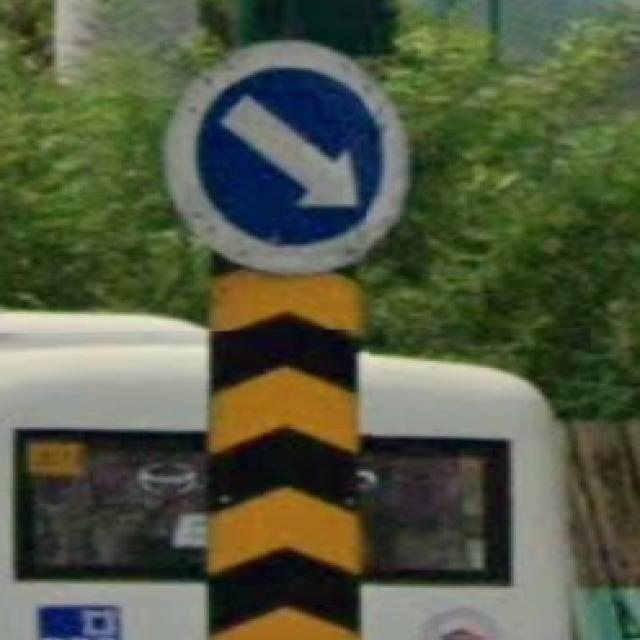keep right: (163, 38, 410, 272)
